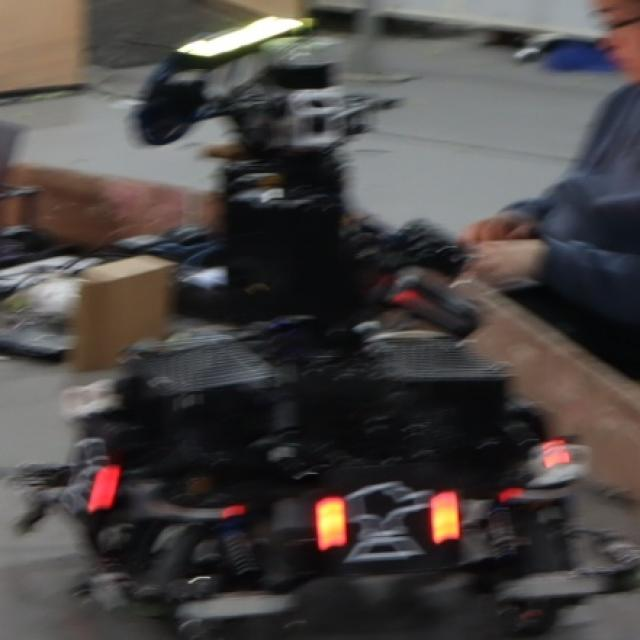Rs: (316, 476, 464, 570), (57, 425, 119, 522)
